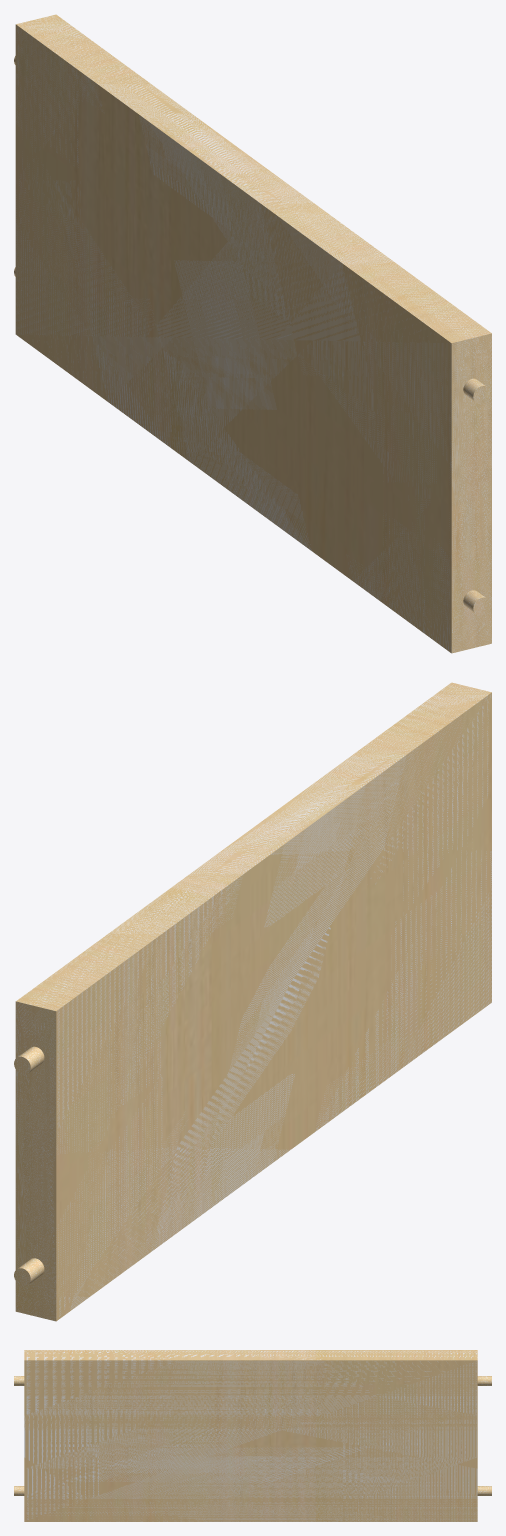
The model's file is original-84.obj.
3 views of the same model, one above another, from view 1: azimuth 30°, elevation 25°; view 2: azimuth 150°, elevation 25°; view 3: azimuth 270°, elevation 25° (orthographic). The views are drawn at different scales.
Visible parts, largest first — view 1: Component_6_5/Component_6/mesh15/mesh15-geometry#mesh15-geometry; view 2: Component_6_5/Component_6/mesh15/mesh15-geometry#mesh15-geometry; view 3: Component_6_5/Component_6/mesh15/mesh15-geometry#mesh15-geometry.
Part boxes in pixels (<box>): Component_6_5/Component_6/mesh15/mesh15-geometry#mesh15-geometry: <box>14,14,491,653</box>; Component_6_5/Component_6/mesh15/mesh15-geometry#mesh15-geometry: <box>14,682,491,1321</box>; Component_6_5/Component_6/mesh15/mesh15-geometry#mesh15-geometry: <box>14,1350,491,1521</box>.
Bounding box in the file's own units: 0.0131 × 0.0964 × 0.2587.
